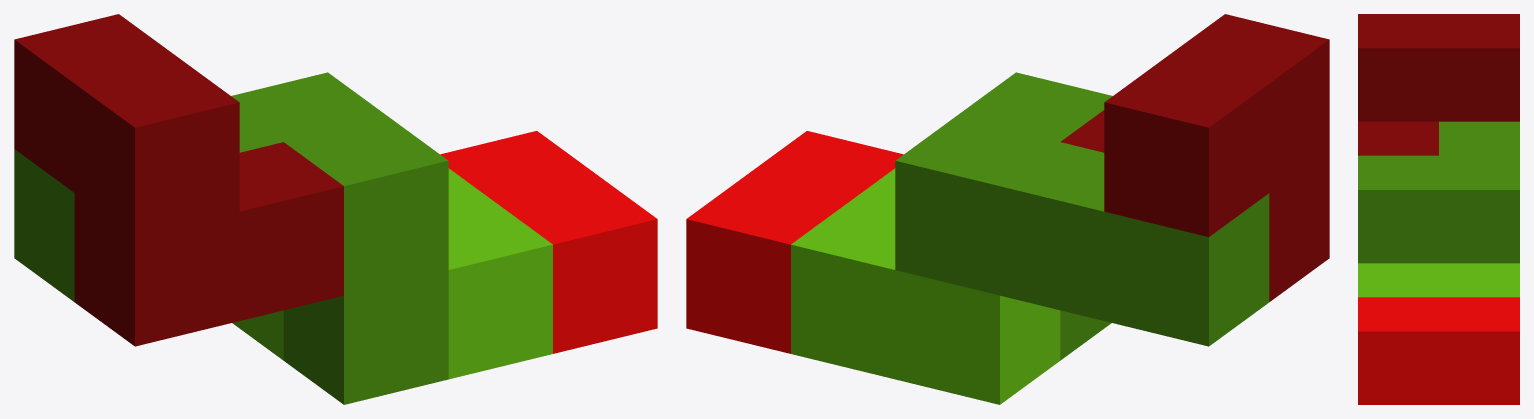
The picture shows the model from 3 angles, left to right: view 1: azimuth 30°, elevation 25°; view 2: azimuth 150°, elevation 25°; view 3: azimuth 270°, elevation 25°; orthographic projection. The views are drawn at different scales.
Visible parts, largest first — view 1: mergedBlocks(Clone); view 2: mergedBlocks(Clone); view 3: mergedBlocks(Clone).
Boxes of the visible parts, x1,y1,x2,y2 form: mergedBlocks(Clone): (14,14,657,404); mergedBlocks(Clone): (686,14,1329,404); mergedBlocks(Clone): (1358,14,1519,404).
Size of the model in its own units: 5 by 3 by 2.
4 materials, 4 textured.
